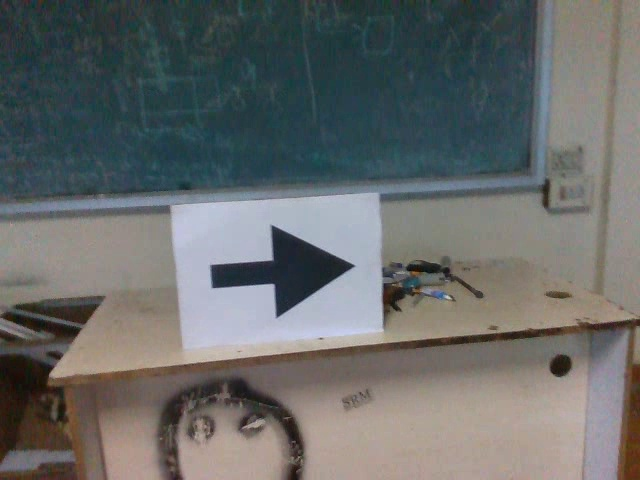Right: (203, 218, 355, 319)
